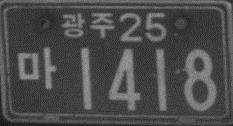1: (152, 46, 168, 116), (79, 45, 94, 111)
2: (118, 11, 143, 44)
4: (106, 45, 141, 111)
5: (144, 11, 167, 44)
8: (181, 46, 218, 111)
광주_O: (60, 12, 115, 40)
마: (16, 43, 57, 90)
